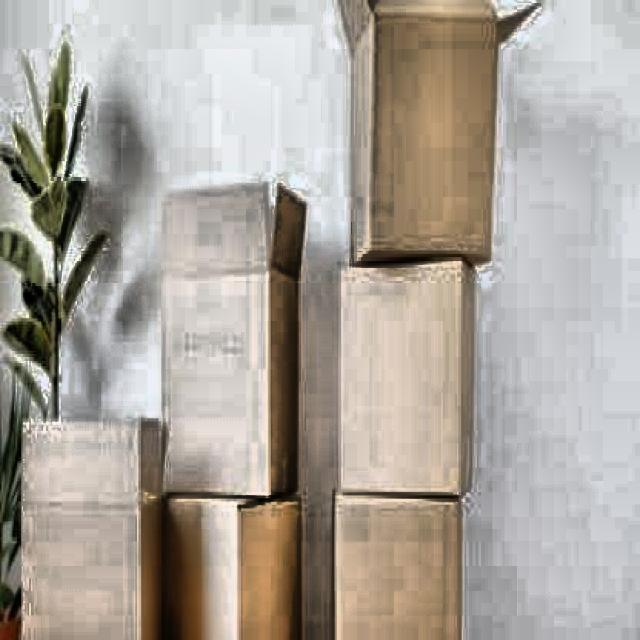Cardbox: (130, 183, 320, 497), (321, 0, 537, 272), (310, 233, 505, 501), (15, 412, 198, 640), (154, 480, 301, 640)
